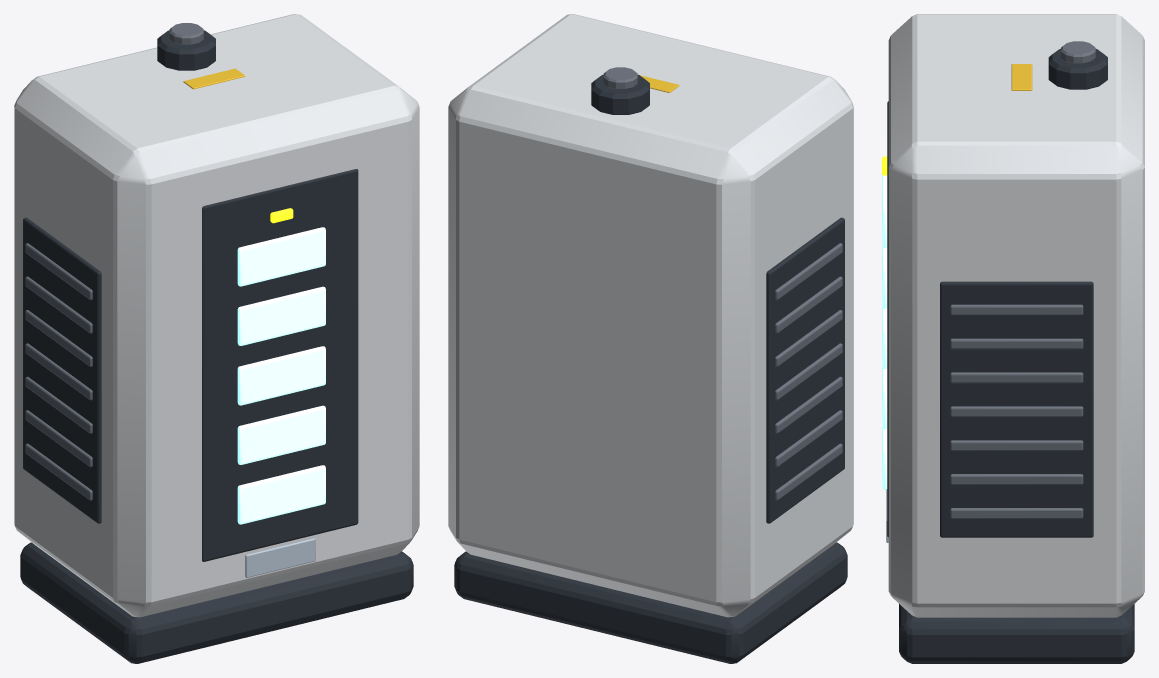
Rendered from Battery_Cabinet.fbx.
The picture shows the model from 3 angles, left to right: view 1: azimuth 30°, elevation 25°; view 2: azimuth 150°, elevation 25°; view 3: azimuth 270°, elevation 25°; orthographic projection.
Parts seen in each view (by area): view 1: Body, Gauge_1, Gauge_3, Gauge_5, Gauge_2, Gauge_4; view 2: Body; view 3: Body, Gauge_5.
Boxes of the visible parts, <box> form: Body: <box>14,14,419,663</box>; Gauge_1: <box>237,465,325,524</box>; Gauge_3: <box>237,346,325,405</box>; Gauge_5: <box>237,227,325,286</box>; Gauge_2: <box>237,405,325,464</box>; Gauge_4: <box>237,286,325,345</box>; Body: <box>448,14,853,663</box>; Body: <box>882,14,1144,663</box>; Gauge_5: <box>882,174,887,248</box>.
Bounding box in the file's own units: 0.73 × 1.18 × 0.513.
